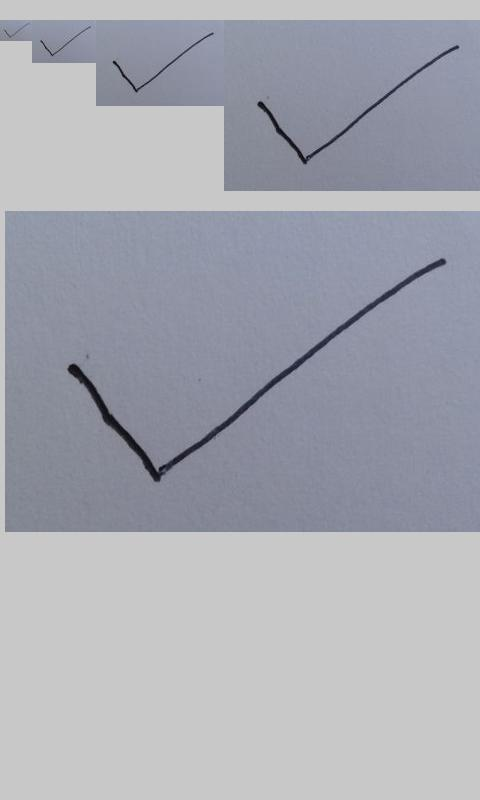check_box: (70, 261, 434, 485), (258, 45, 459, 166), (113, 34, 211, 93), (40, 27, 89, 56), (4, 24, 28, 38)
